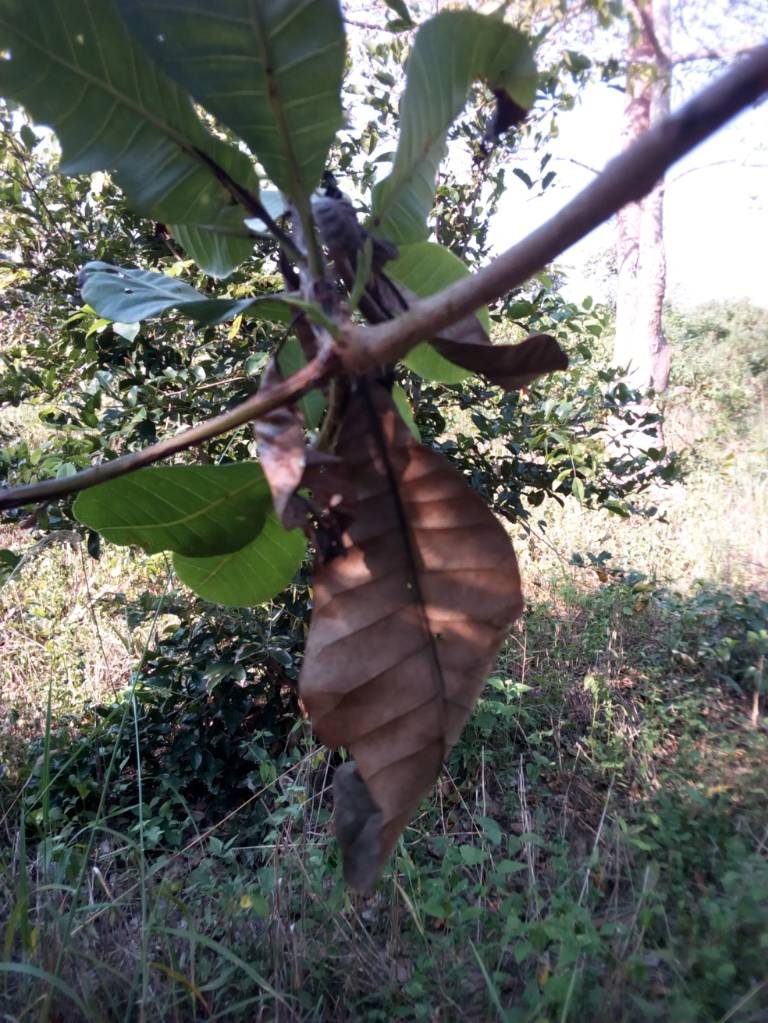Dessèchement des bourgeons: (287, 381, 465, 559)
